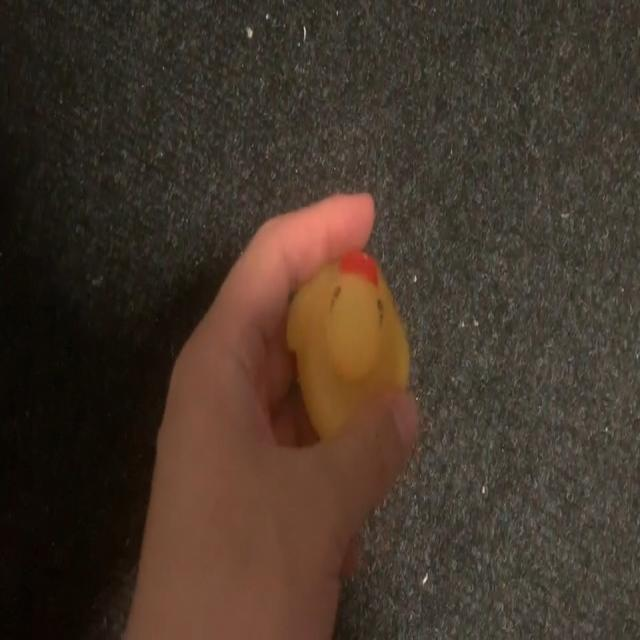rubber-duck: (286, 250, 407, 436)
